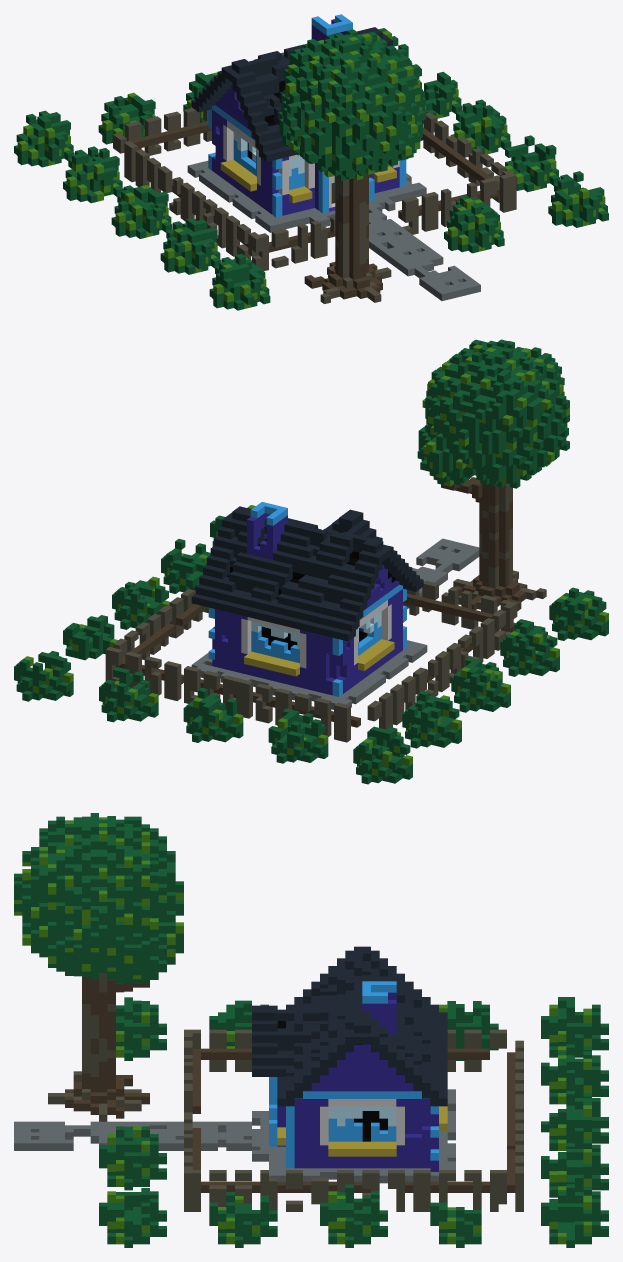
Rendered from building_small_2_damaged.obj.
The picture shows the model from 3 angles, top to bottom: view 1: azimuth 30°, elevation 25°; view 2: azimuth 150°, elevation 25°; view 3: azimuth 270°, elevation 25°; orthographic projection. The views are drawn at different scales.
Bounding box in the file's own units: 6 × 3.6 × 7.
Materials: 1 (1 with a texture image).
